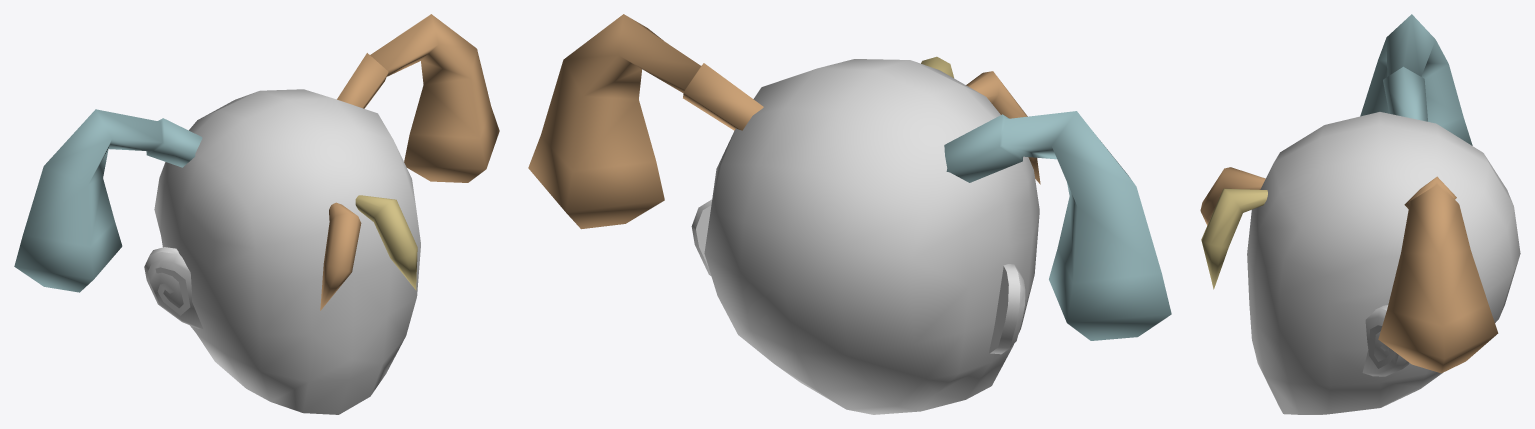
The model's file is Hair9.glb.
3 renders of one model, left to right at view 1: azimuth 30°, elevation 25°; view 2: azimuth 150°, elevation 25°; view 3: azimuth 270°, elevation 25°, orthographic. The views are drawn at different scales.
Visible parts, largest first — view 1: Head; view 2: Head; view 3: Head.
Boxes of the visible parts, left/top/right/bottom form: Head: left=14, top=14, right=499, bottom=414; Head: left=528, top=14, right=1171, bottom=414; Head: left=1200, top=14, right=1520, bottom=414.
Bounding box in the file's own units: 1.15 × 0.6645 × 0.6303.
